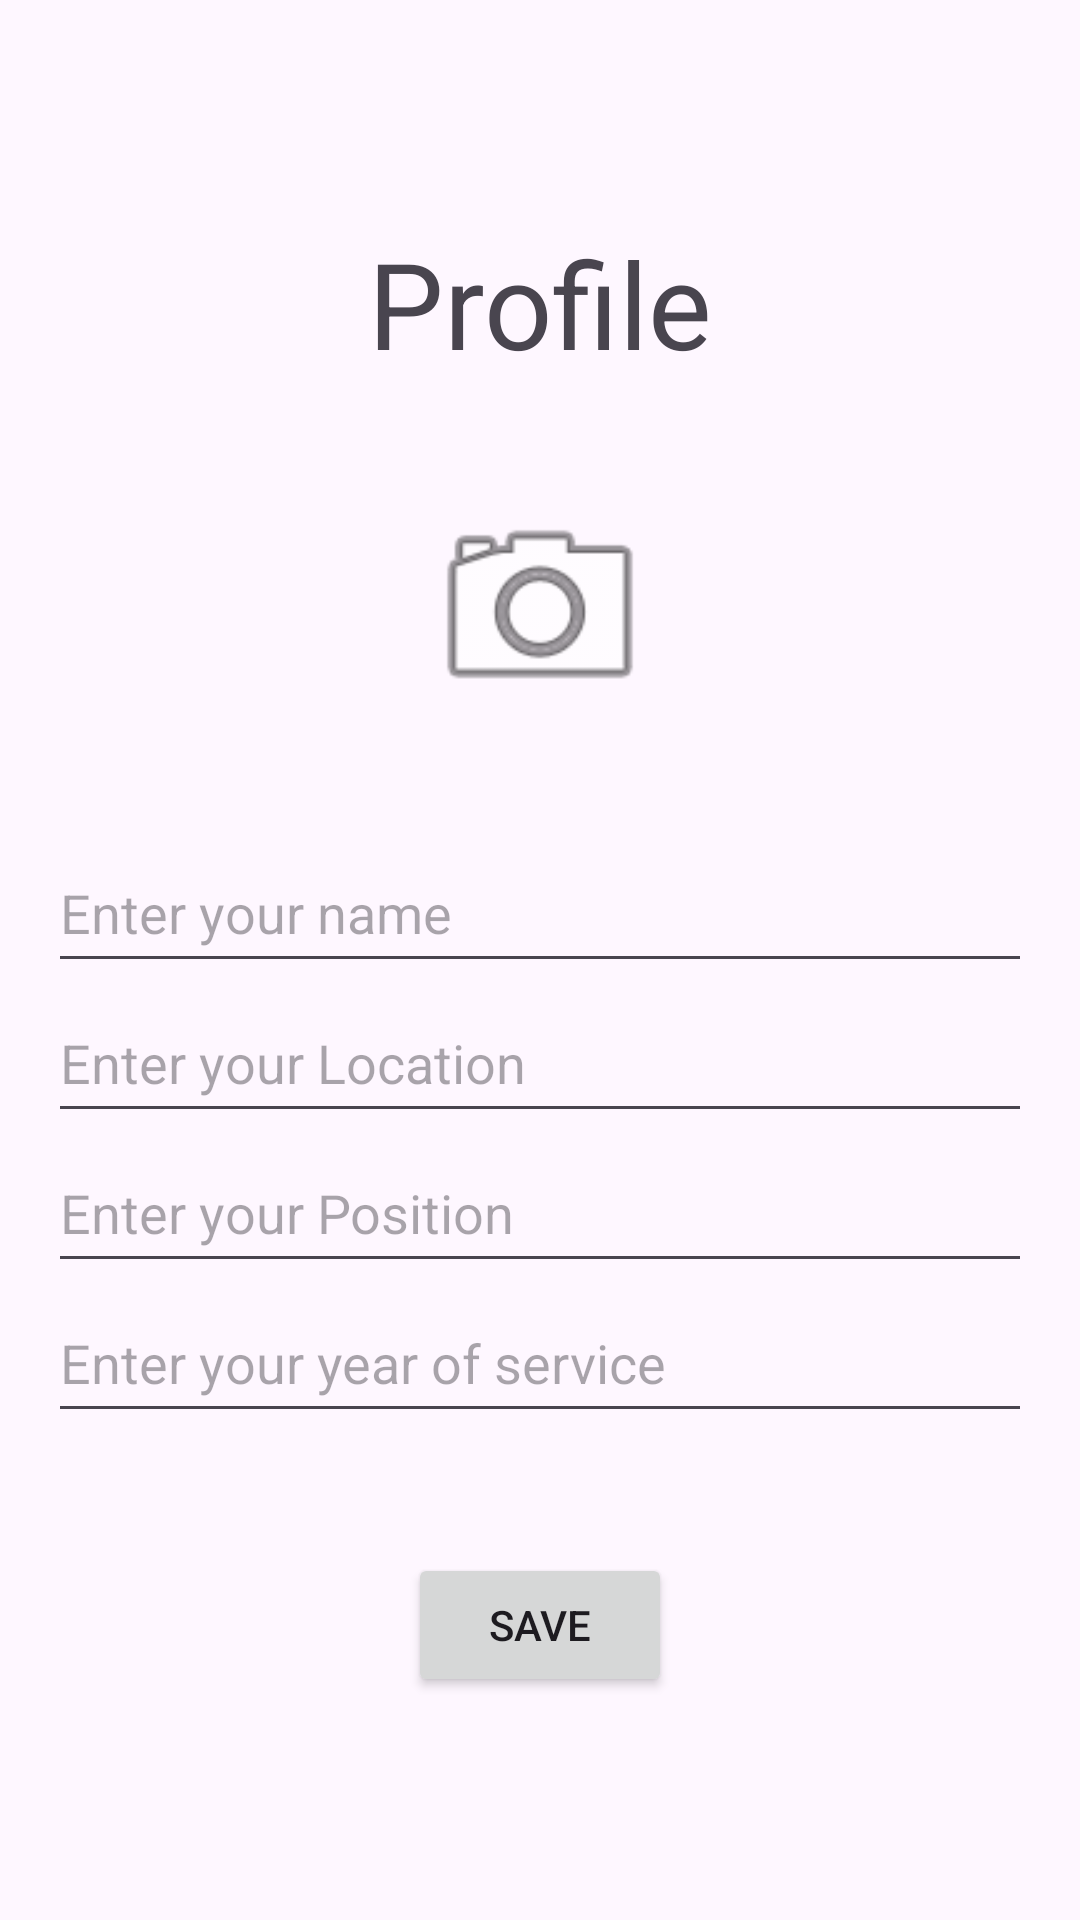

Where icons sit on this 1080x1920 app screen, as (x1, y1, x2, y2):
camera: (447, 530, 633, 678)
